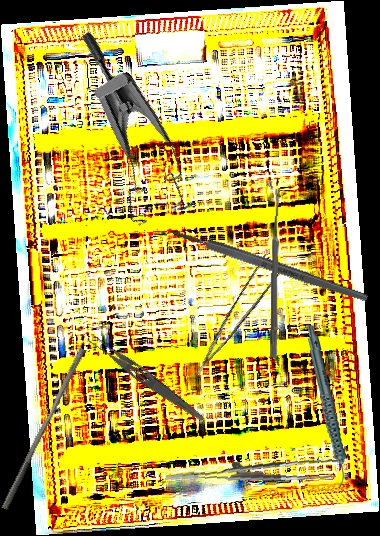Dressing Forceps: (84, 330, 209, 425)
Handpiece: (304, 325, 349, 489)
Pusher: (1, 344, 87, 514)
Scalpel Handle: (171, 226, 369, 305)
Speculum: (18, 29, 223, 243)
Surgical Spoon: (270, 188, 281, 358)
Tissue Forceps: (178, 248, 291, 376), (165, 445, 338, 495)
